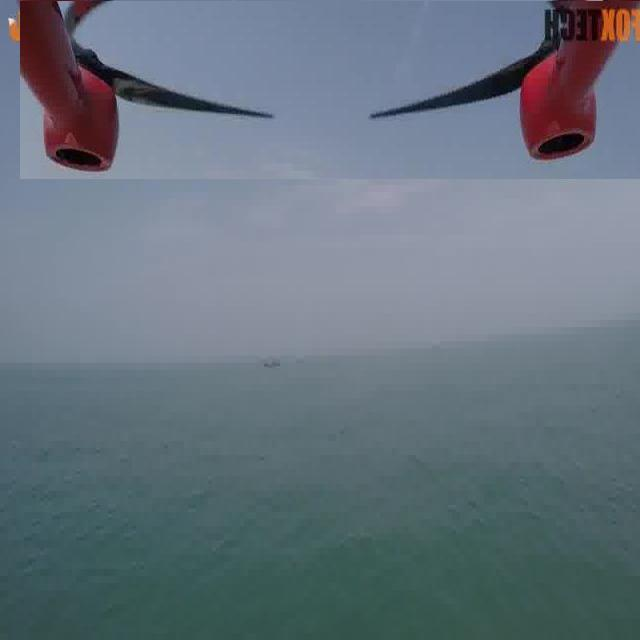drone: (20, 1, 640, 179)
